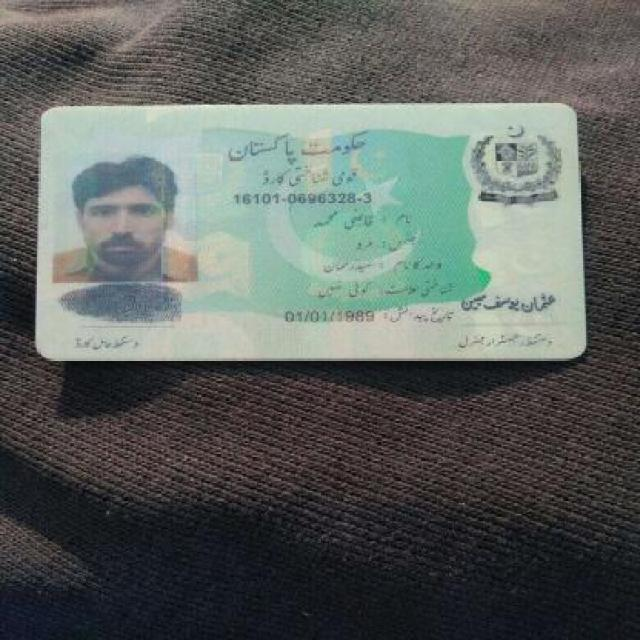Front: (31, 100, 592, 363)
